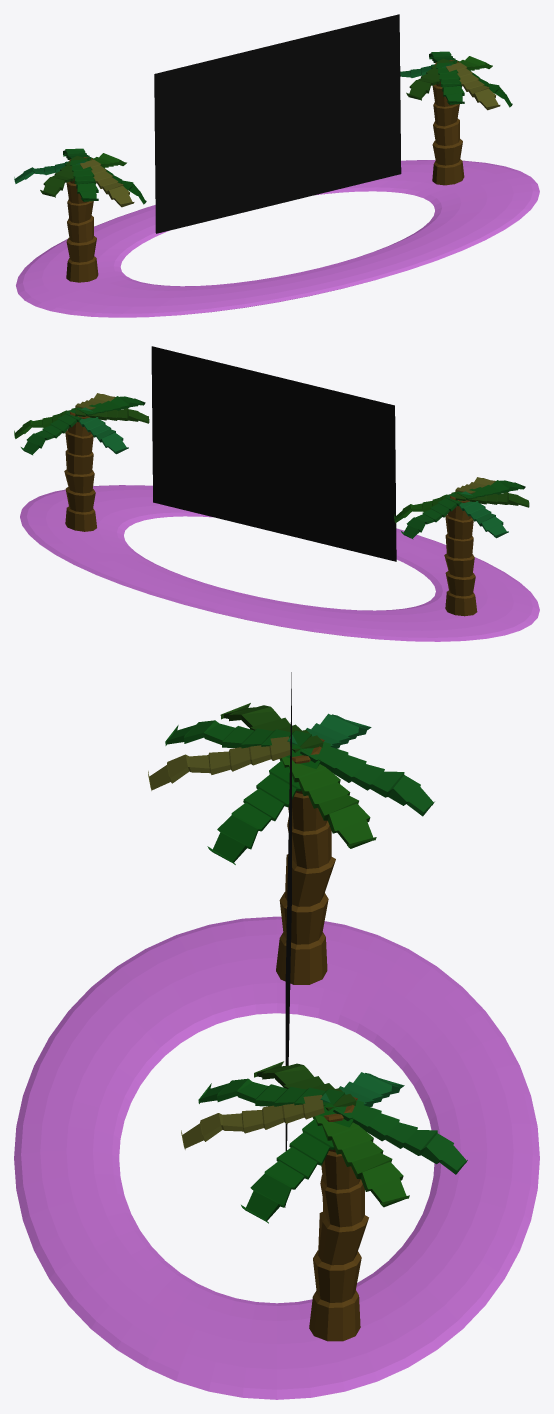
File: float17.fbx
The picture shows the model from 3 angles, top to bottom: view 1: azimuth 30°, elevation 25°; view 2: azimuth 150°, elevation 25°; view 3: azimuth 270°, elevation 25°; orthographic projection. The views are drawn at different scales.
Visible parts, largest first — view 1: Torus; view 2: Torus; view 3: Torus.
Boxes of the visible parts, x1=… form: Torus: x1=14, y1=14, x2=539, y2=317; Torus: x1=14, y1=346, x2=539, y2=641; Torus: x1=14, y1=672, x2=539, y2=1399.
Size of the model in its own units: 1326 by 487 by 610.
